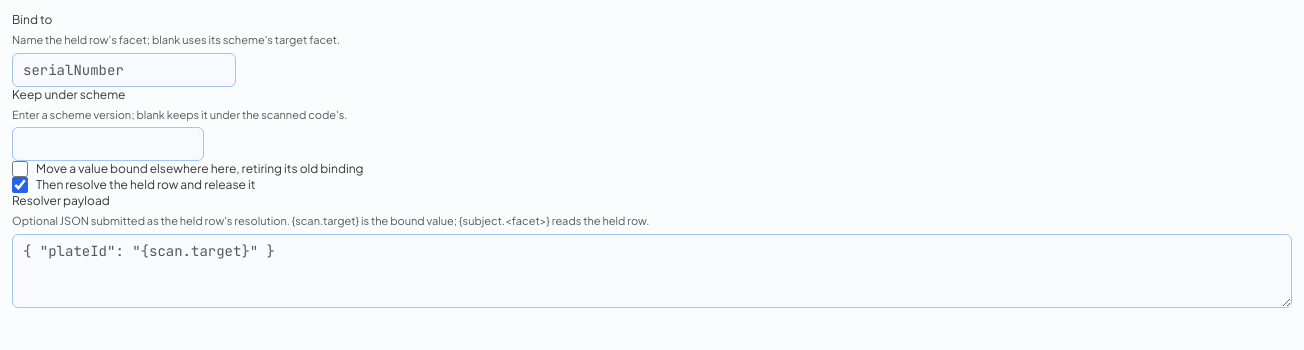
Test: bind step fields › a payload that is not a JSON object is held back with a message
Type "[1, 2]" into the text box labelled "Resolver payload". click: {"x": 652, "y": 270}
box: [12,234,1292,308]
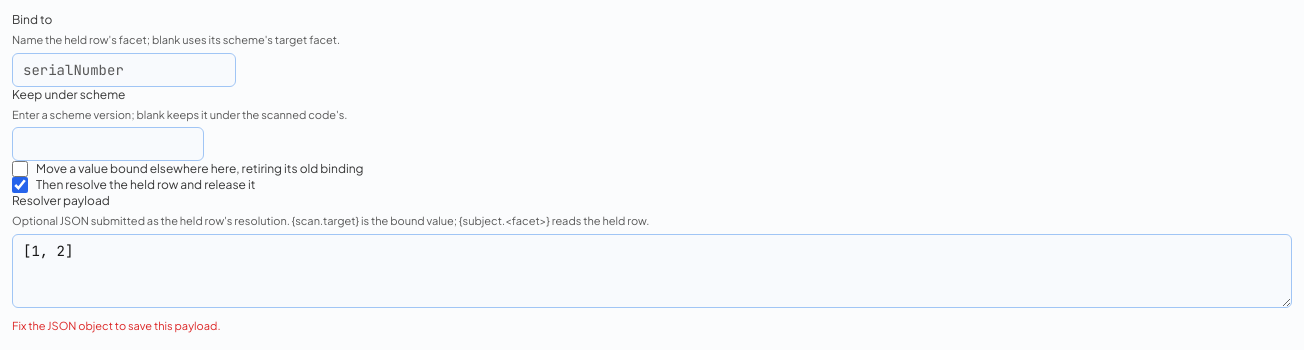
Check: the text "Fix the JSON object to save this payload." is shown, box [12,318,221,332]
